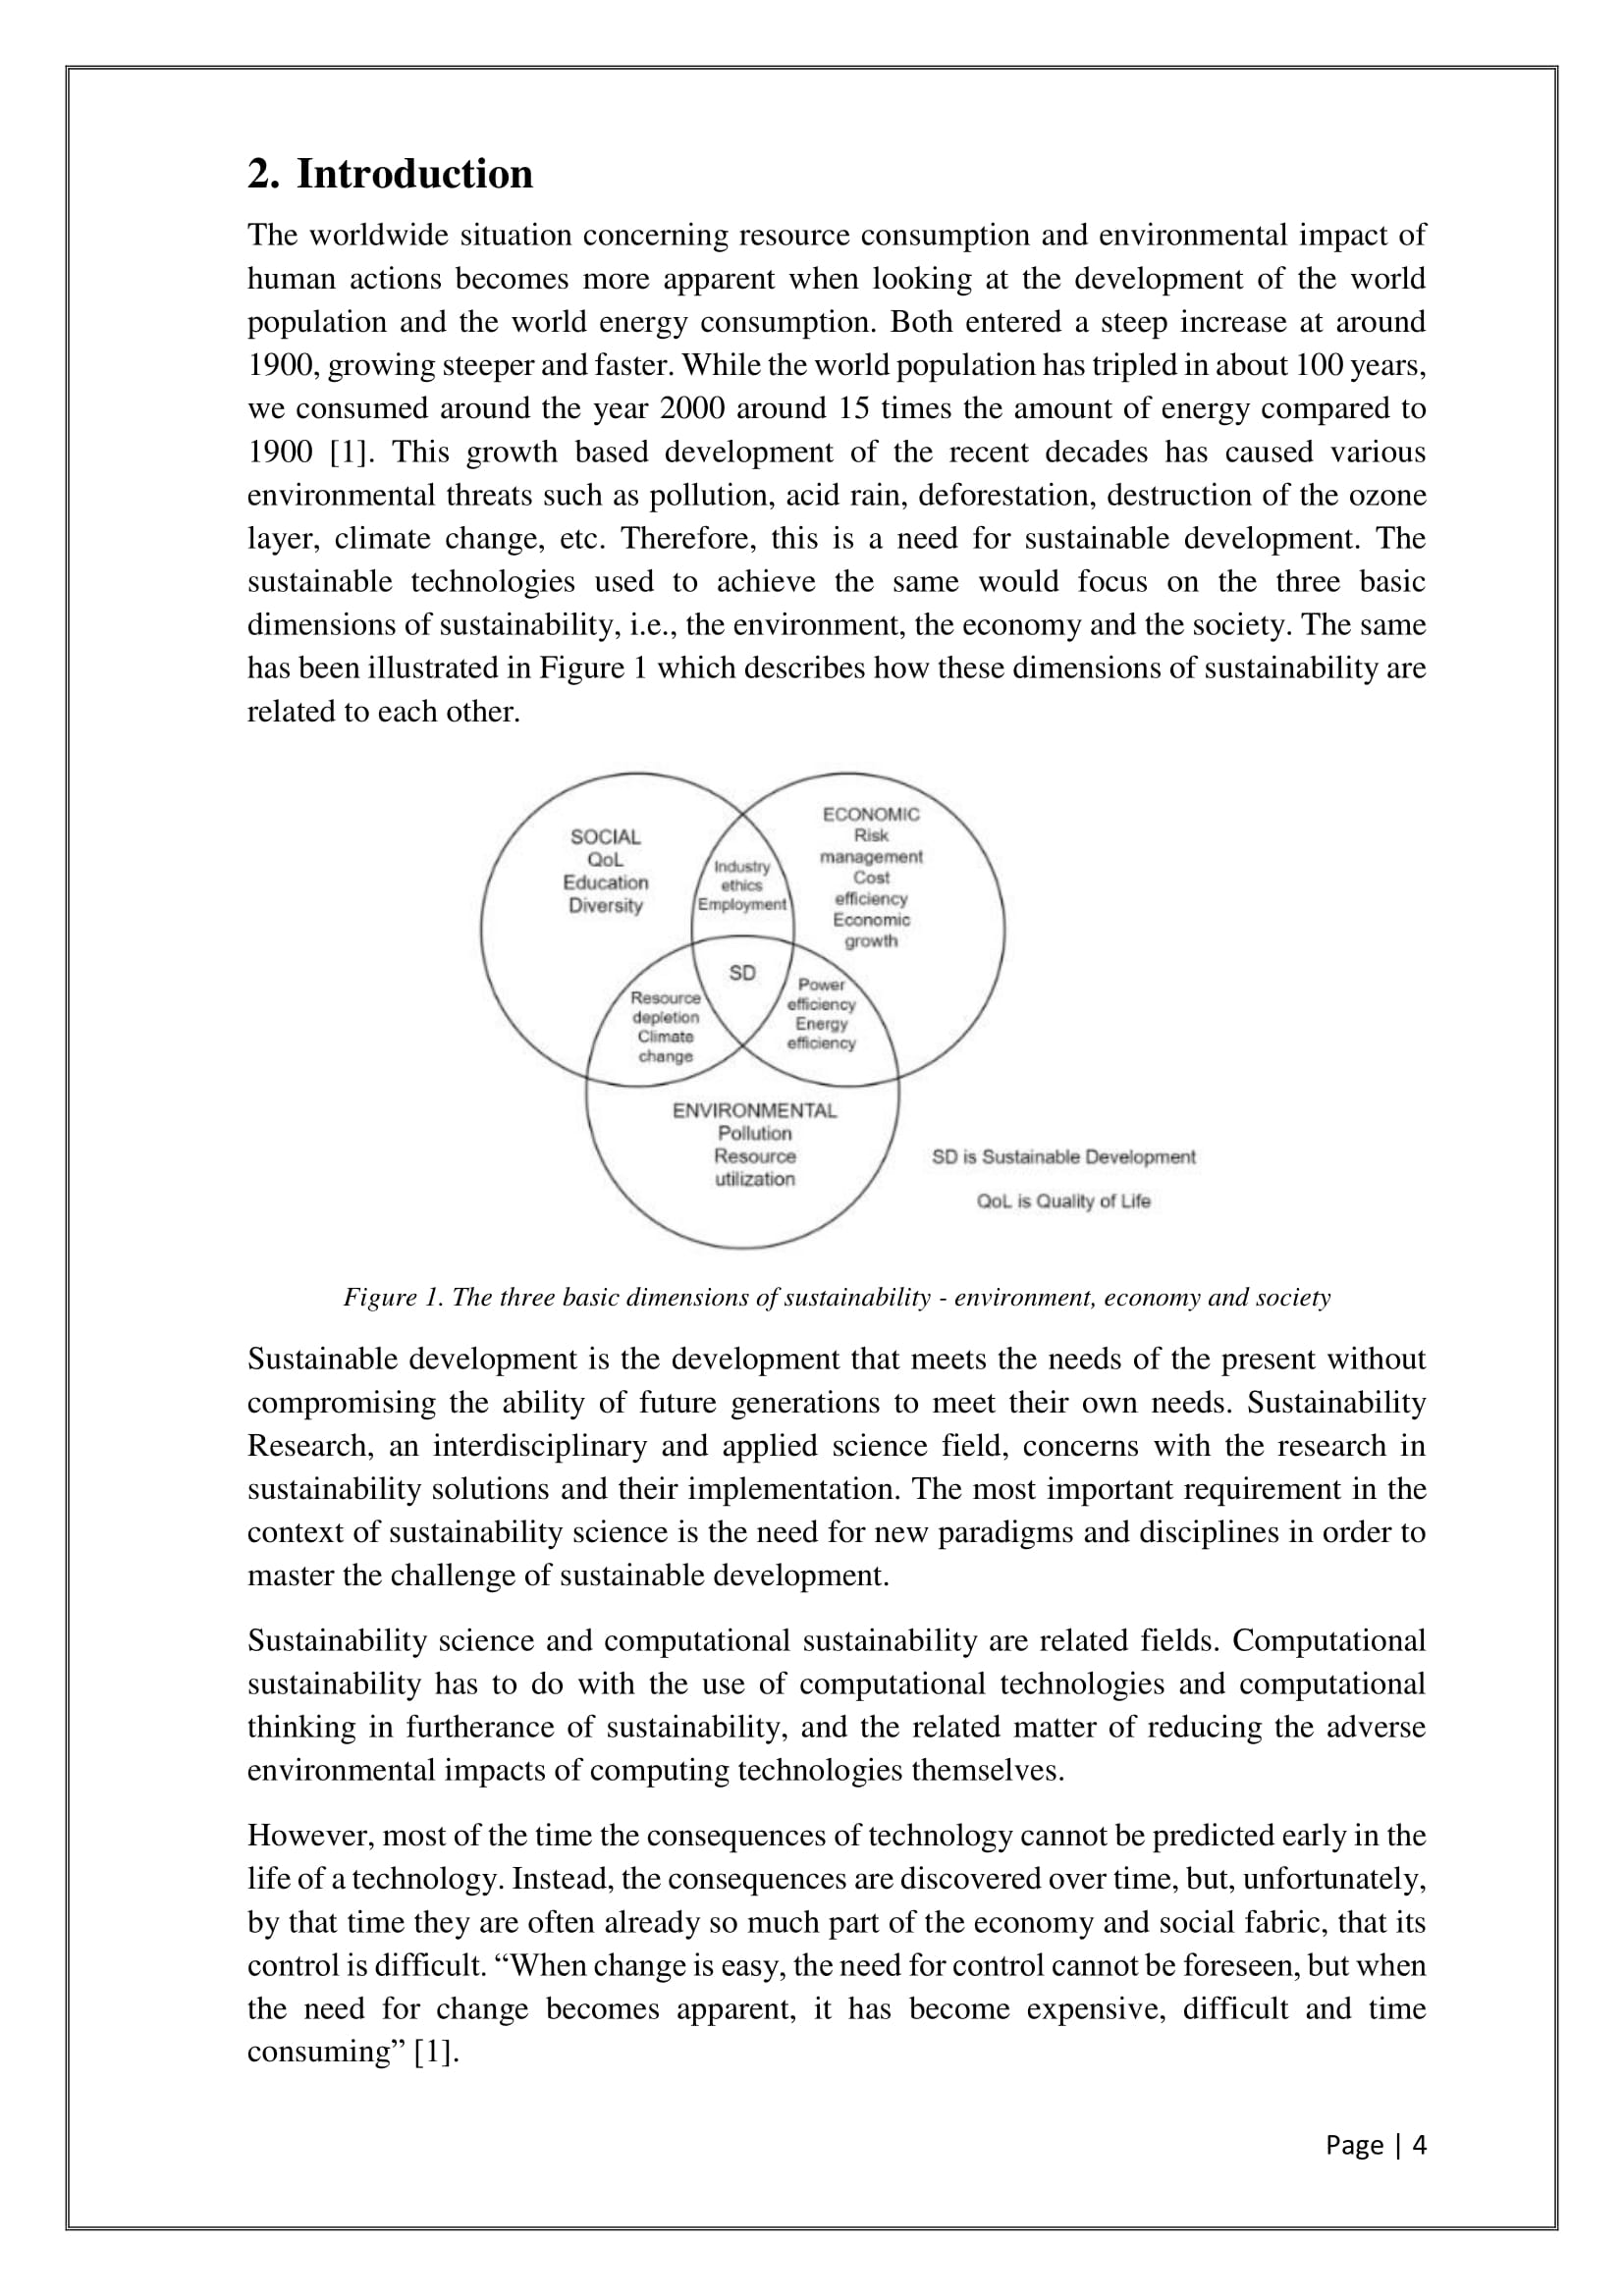BB1: (213, 211, 1485, 741)
BB2: (199, 1309, 1482, 1607)
BB3: (199, 1600, 1489, 2094)
